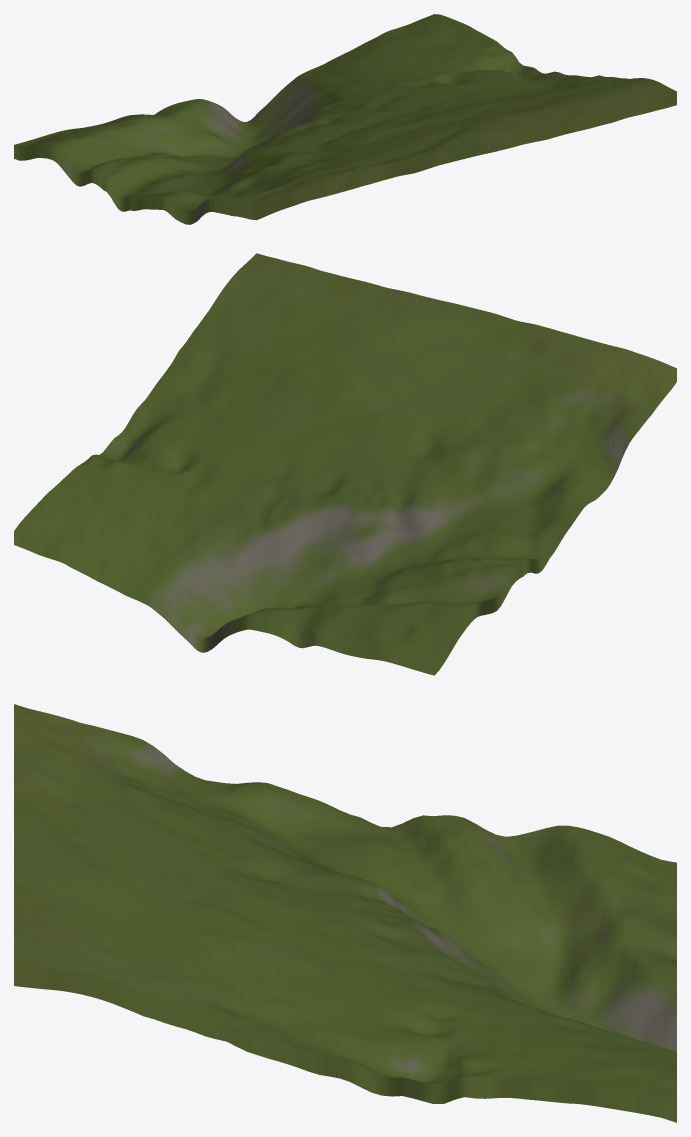
The model's file is terrain_4_-3.glb.
3 views of the same model, one above another, from view 1: azimuth 30°, elevation 25°; view 2: azimuth 150°, elevation 25°; view 3: azimuth 270°, elevation 25° (orthographic). The views are drawn at different scales.
Parts seen in each view (by area): view 1: terrain_4_-3; view 2: terrain_4_-3; view 3: terrain_4_-3.
Boxes of the visible parts, bbox=[...] form: terrain_4_-3: bbox=[14, 14, 676, 224]; terrain_4_-3: bbox=[14, 253, 676, 675]; terrain_4_-3: bbox=[14, 704, 676, 1122].
Size of the model in its own units: 256 by 102 by 256.
